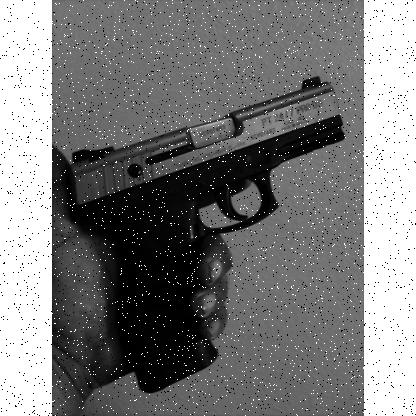gun: (67, 76, 345, 392)
